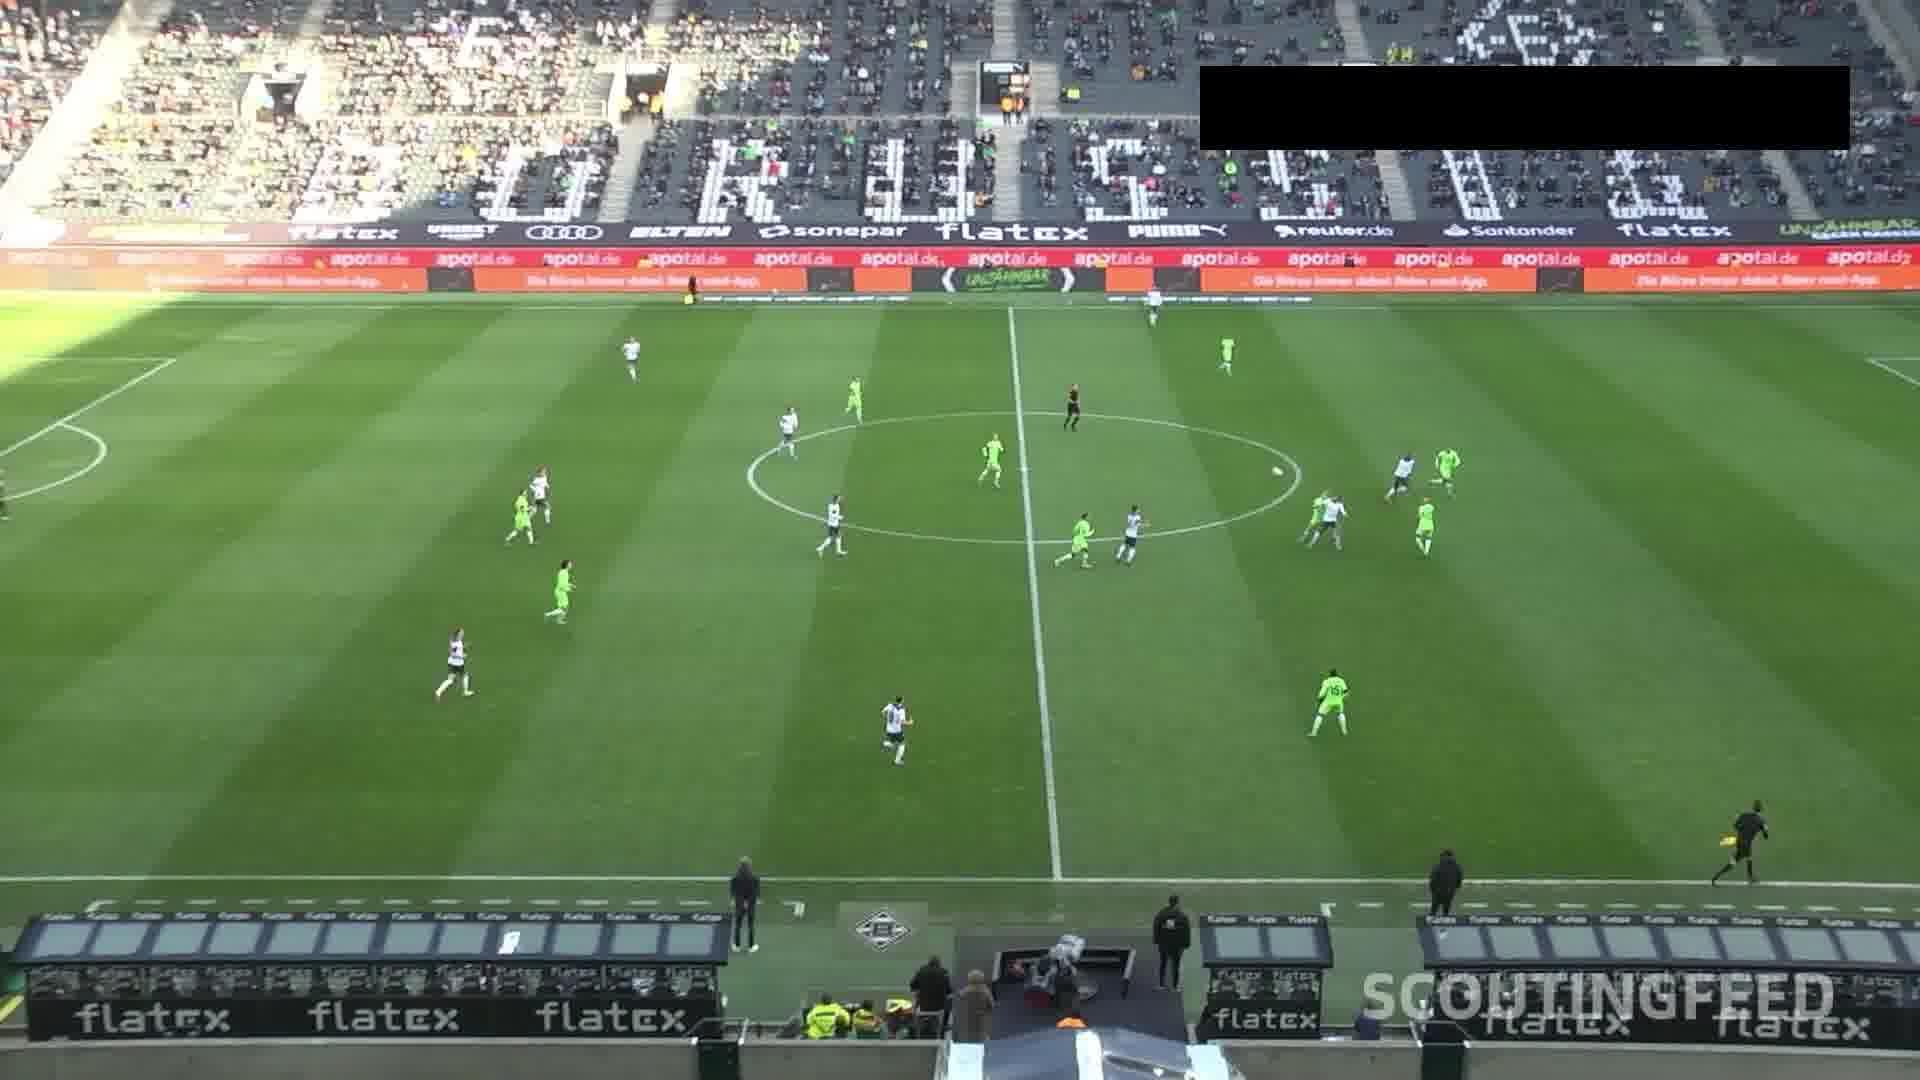football: (1273, 465, 1286, 477)
